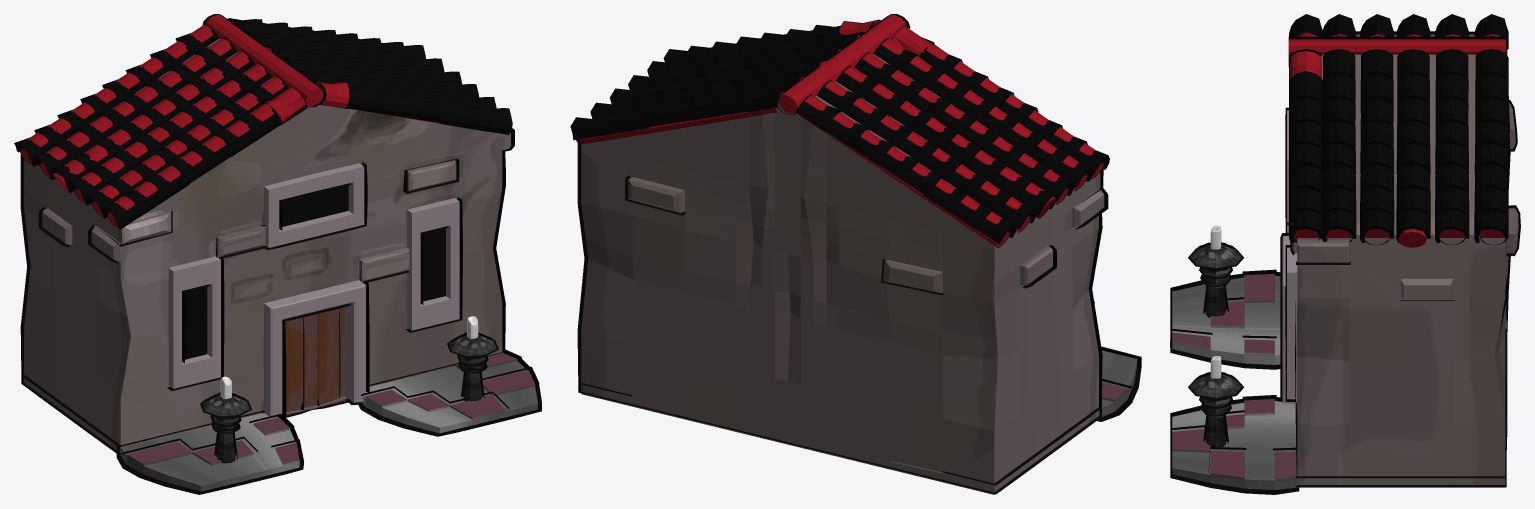
The model's file is house.fbx.
The picture shows the model from 3 angles, left to right: view 1: azimuth 30°, elevation 25°; view 2: azimuth 150°, elevation 25°; view 3: azimuth 270°, elevation 25°; orthographic projection. The views are drawn at different scales.
Parts seen in each view (by area): view 1: Cube, Cylinder.005, Cube.002, Cube.001; view 2: Cube, Cylinder.005, Cube.002; view 3: Cube, Cylinder.005, Cube.002, Cube.001, Cube.003.
Boxes of the visible parts, left/top/right/bottom form: Cube: left=20, top=38, right=514, bottom=455; Cylinder.005: left=14, top=14, right=512, bottom=229; Cube.002: left=116, top=349, right=541, bottom=494; Cube.001: left=200, top=332, right=498, bottom=463; Cube: left=577, top=54, right=1108, bottom=494; Cylinder.005: left=570, top=14, right=1109, bottom=248; Cube.002: left=1097, top=346, right=1141, bottom=421; Cube: left=1280, top=31, right=1520, bottom=487; Cylinder.005: left=1288, top=14, right=1508, bottom=247; Cube.002: left=1170, top=269, right=1299, bottom=494; Cube.001: left=1188, top=242, right=1244, bottom=447; Cube.003: left=1210, top=225, right=1221, bottom=378.
Bounding box in the file's own units: 4860 × 3755 × 3386.
